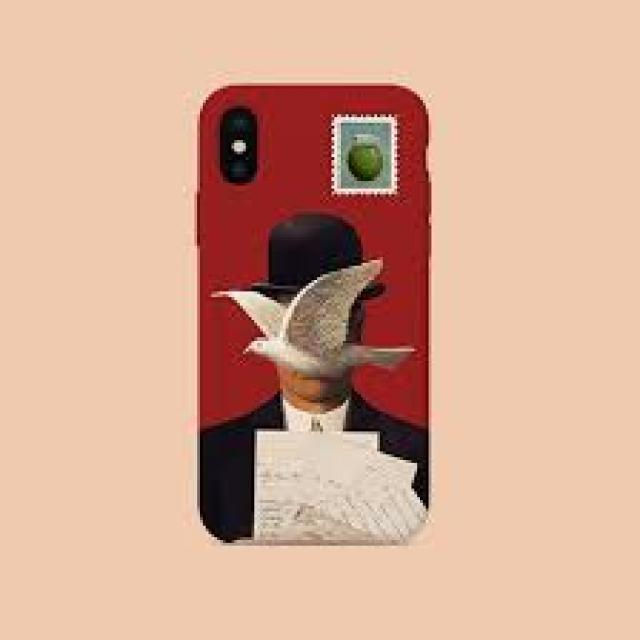phone: (190, 75, 438, 552)
